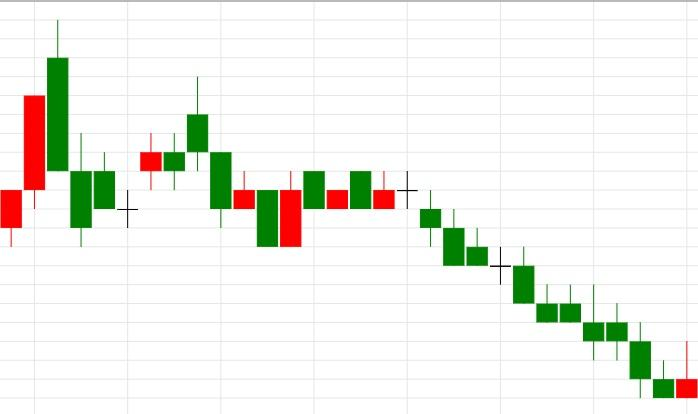bullish_engulfing_rise: (187, 76, 302, 247)
inverse_hammer_rise: (420, 191, 698, 399)
